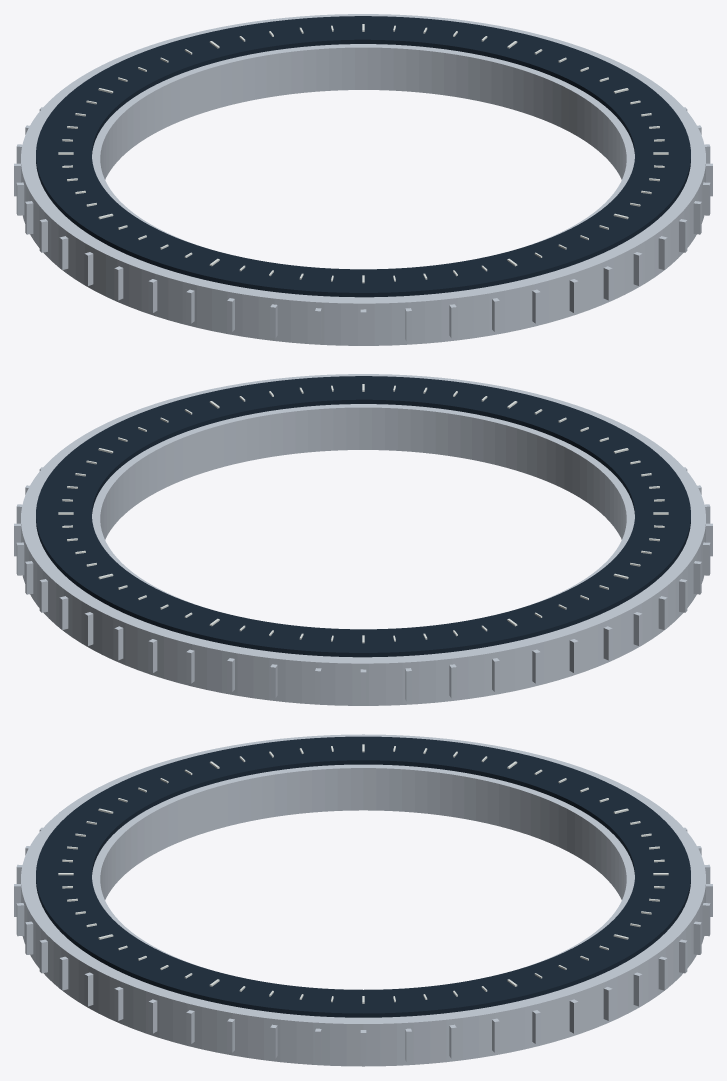
The model's file is bezel-dive-scalloped-42.glb.
3 views of the same model, one above another, from view 1: azimuth 30°, elevation 25°; view 2: azimuth 150°, elevation 25°; view 3: azimuth 270°, elevation 25° (orthographic).
Parts seen in each view (by area): view 1: DD_BEZEL_CARRIER, DD_BEZEL_INSERT; view 2: DD_BEZEL_CARRIER, DD_BEZEL_INSERT; view 3: DD_BEZEL_CARRIER, DD_BEZEL_INSERT.
Boxes of the visible parts, x1=… form: DD_BEZEL_CARRIER: x1=21, y1=14, x2=705, y2=345; DD_BEZEL_INSERT: x1=36, y1=16, x2=690, y2=297; DD_BEZEL_CARRIER: x1=21, y1=374, x2=705, y2=705; DD_BEZEL_INSERT: x1=36, y1=376, x2=690, y2=657; DD_BEZEL_CARRIER: x1=21, y1=734, x2=705, y2=1066; DD_BEZEL_INSERT: x1=36, y1=736, x2=690, y2=1017.
Size of the model in its own units: 41.82 by 3.19 by 41.82.
